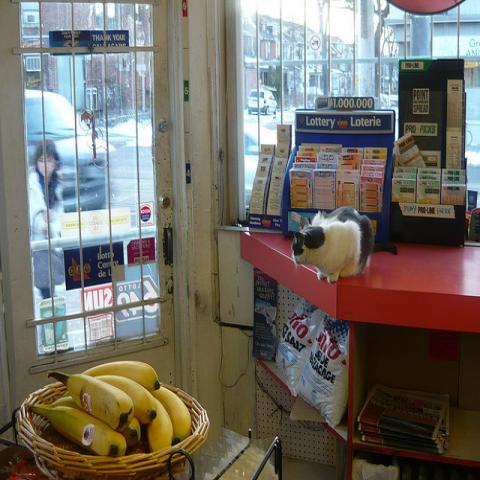car: (25, 88, 114, 217), (247, 90, 278, 115)
